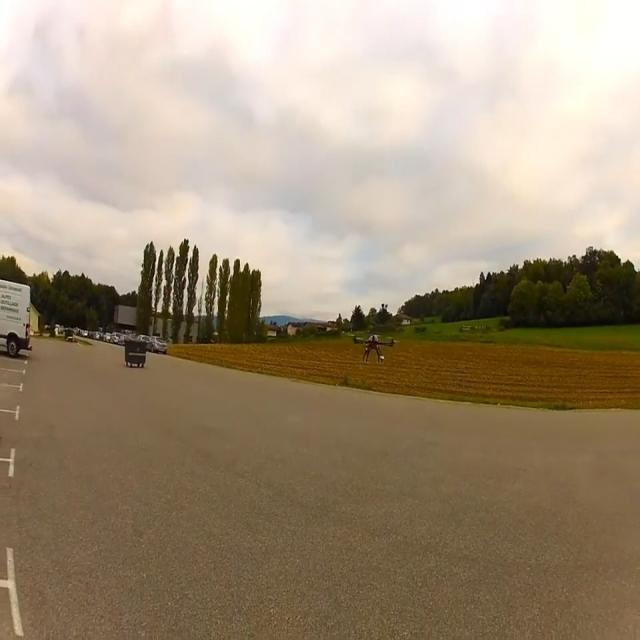drone: (352, 333, 394, 363)
